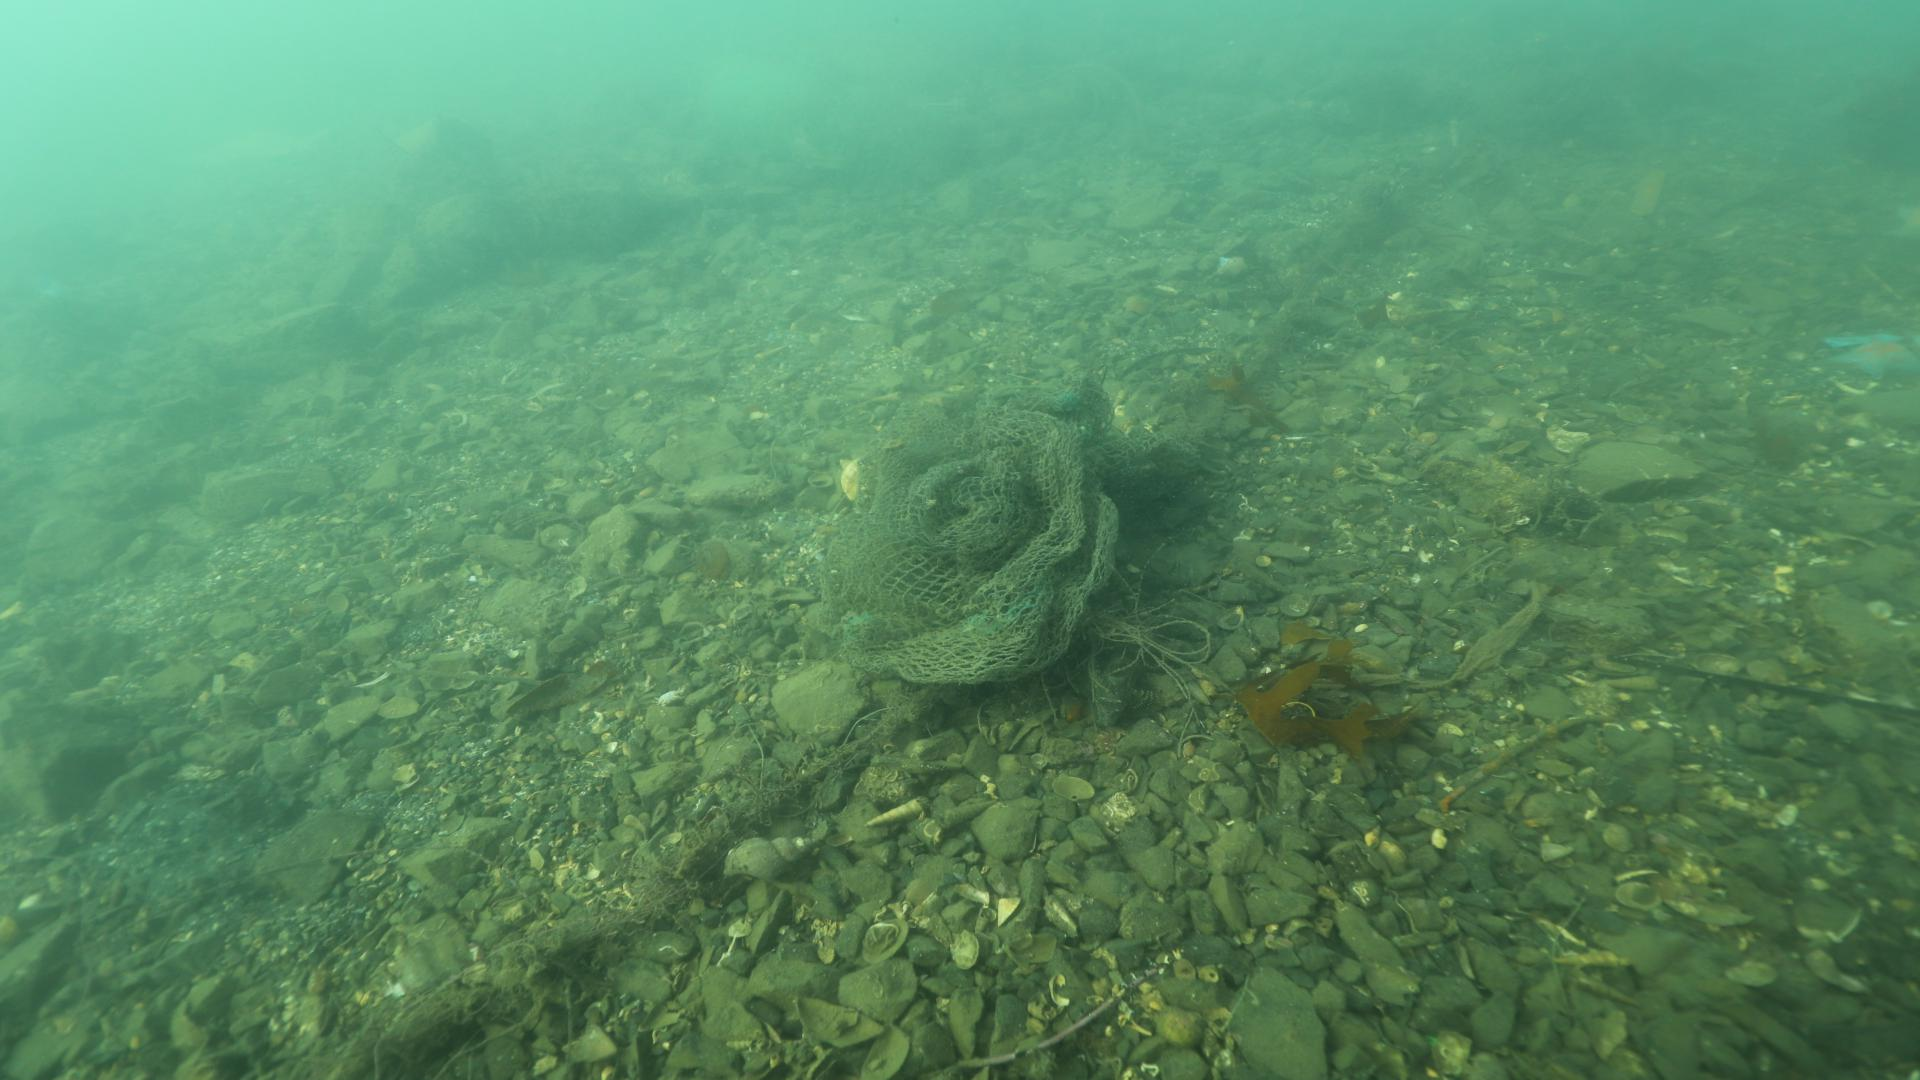fish net: (851, 380, 1164, 682)
